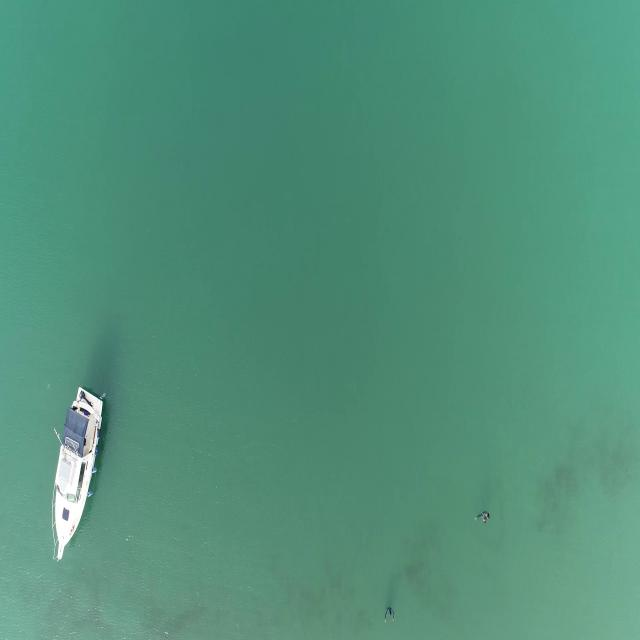boat: (48, 386, 109, 562)
person: (476, 506, 491, 528), (382, 606, 396, 625)
